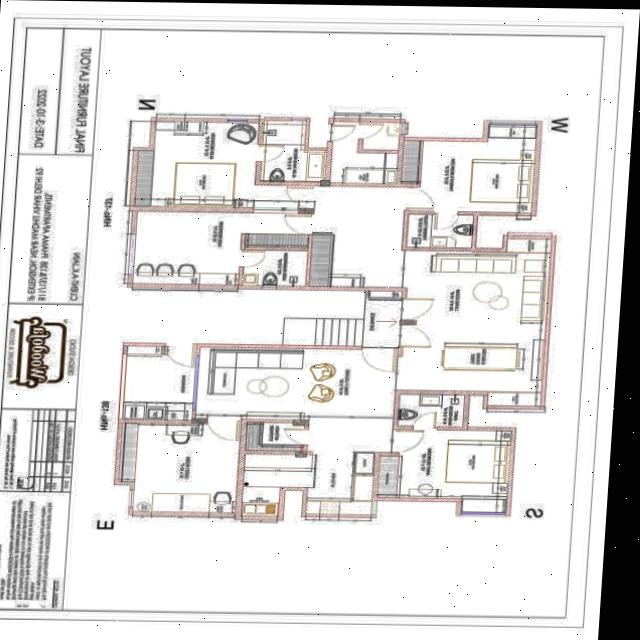room: (402, 122, 536, 214), (377, 429, 510, 513), (134, 122, 258, 207), (240, 450, 375, 517), (132, 212, 240, 285), (330, 123, 398, 184), (260, 121, 324, 182), (407, 215, 471, 248), (242, 252, 304, 285), (398, 395, 462, 426), (245, 423, 303, 451)
